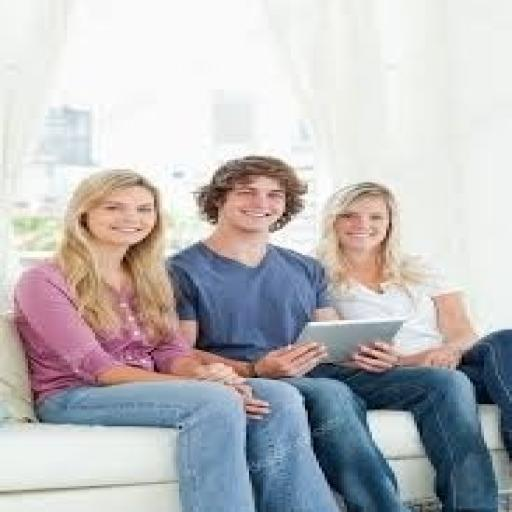sitting: (162, 153, 504, 510), (8, 166, 350, 510), (308, 179, 509, 469)
